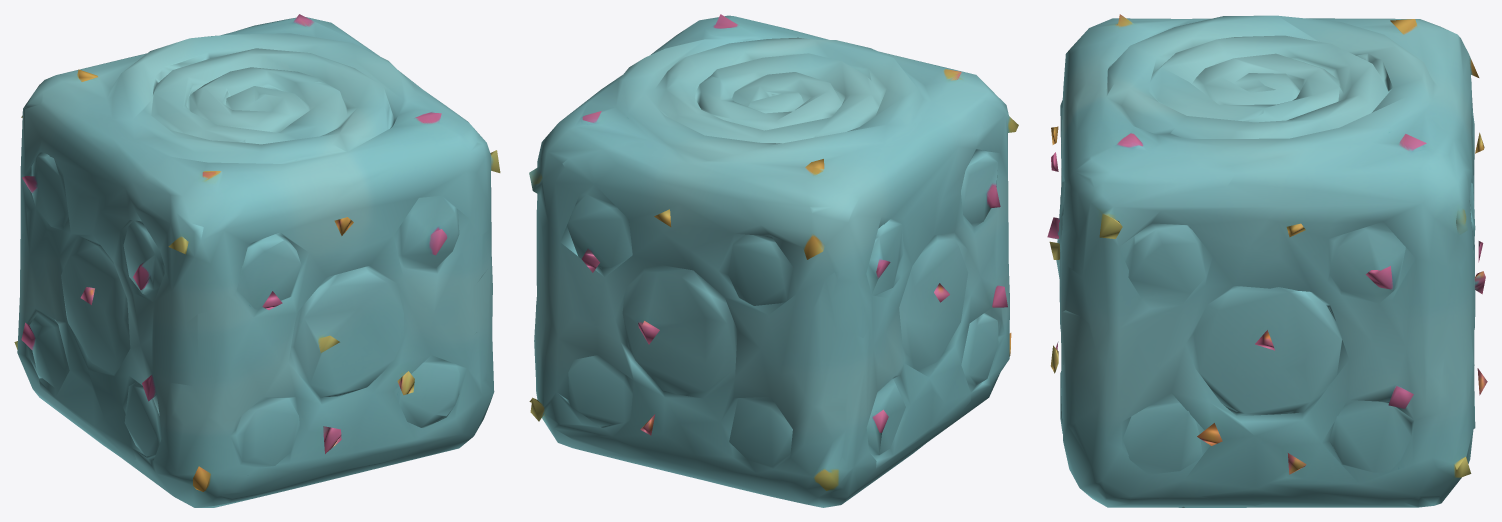
File: match_teal.fbx
The picture shows the model from 3 angles, left to right: view 1: azimuth 30°, elevation 25°; view 2: azimuth 150°, elevation 25°; view 3: azimuth 270°, elevation 25°; orthographic projection. The views are drawn at different scales.
Visible parts, largest first — view 1: tripo_node_4d452ea7; view 2: tripo_node_4d452ea7; view 3: tripo_node_4d452ea7.
Part boxes in pixels (x1=…): tripo_node_4d452ea7: x1=14, y1=14, x2=500, y2=507; tripo_node_4d452ea7: x1=529, y1=14, x2=1018, y2=507; tripo_node_4d452ea7: x1=1047, y1=14, x2=1487, y2=507.
Size of the model in its own units: 98.77 by 100 by 92.46.
Materials: 1 (1 with a texture image).
